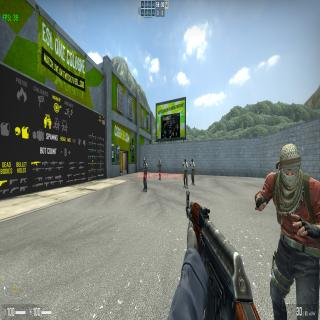CT-Body: (142, 157, 148, 192), (157, 158, 162, 180)
CT-Head: (143, 157, 146, 164), (159, 158, 160, 162)
T-Body: (254, 143, 320, 320), (182, 158, 188, 188), (190, 159, 195, 185)
T-Head: (278, 144, 302, 193), (184, 158, 186, 164), (191, 159, 193, 164)
